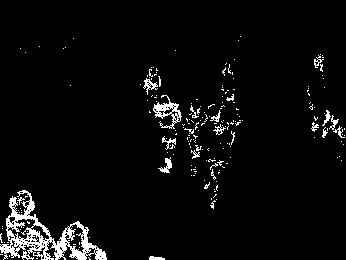person: (5, 188, 55, 260), (153, 92, 180, 176), (185, 98, 207, 180)
